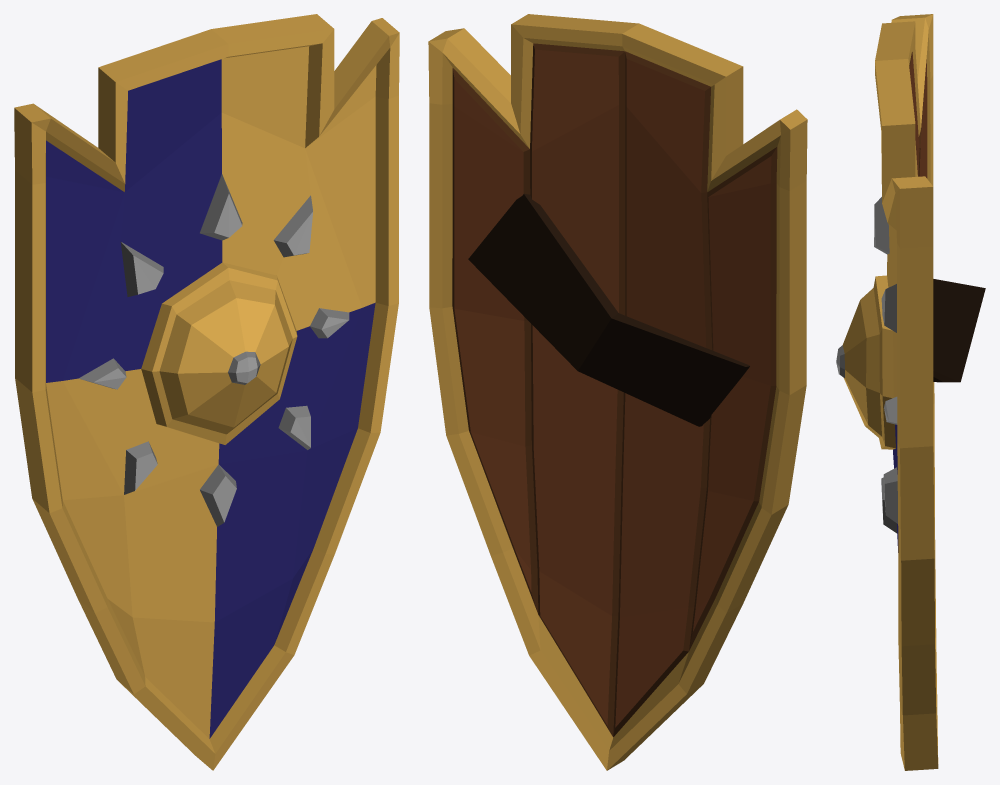
File: Shield_F_AD_007.fbx
3 renders of one model, left to right at view 1: azimuth 30°, elevation 25°; view 2: azimuth 150°, elevation 25°; view 3: azimuth 270°, elevation 25°, orthographic. The views are drawn at different scales.
Parts seen in each view (by area): view 1: Shield_F_AD_007; view 2: Shield_F_AD_007; view 3: Shield_F_AD_007.
Part boxes in pixels (left/top/right/bottom): Shield_F_AD_007: left=14, top=14, right=399, bottom=770; Shield_F_AD_007: left=428, top=14, right=807, bottom=770; Shield_F_AD_007: left=836, top=14, right=985, bottom=770.
Size of the model in its own units: 0.5423 by 1.04 by 0.1985.
